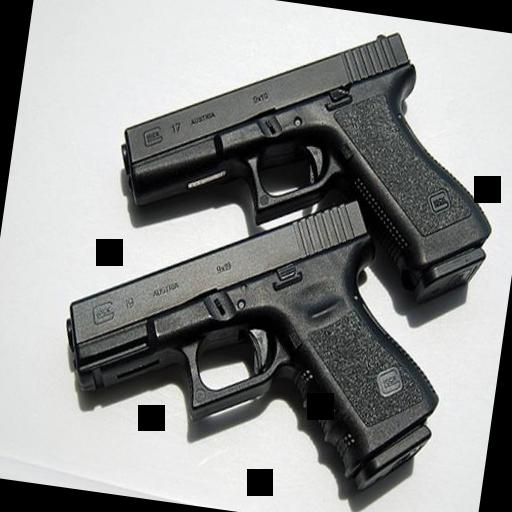Handgun: (45, 159, 467, 512), (103, 0, 512, 309)
